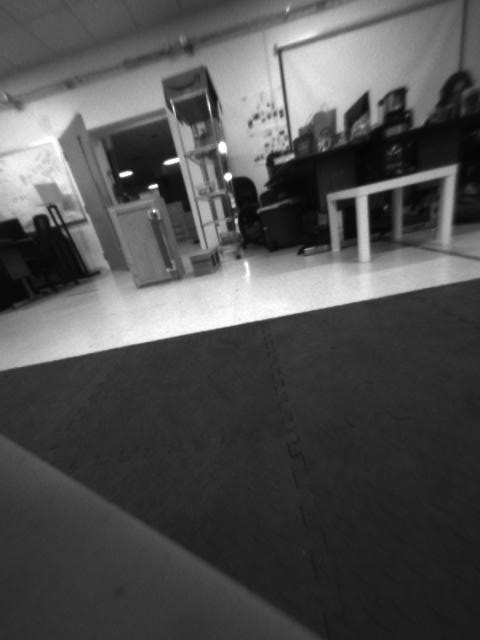coffee_pot: (375, 120, 414, 179)
